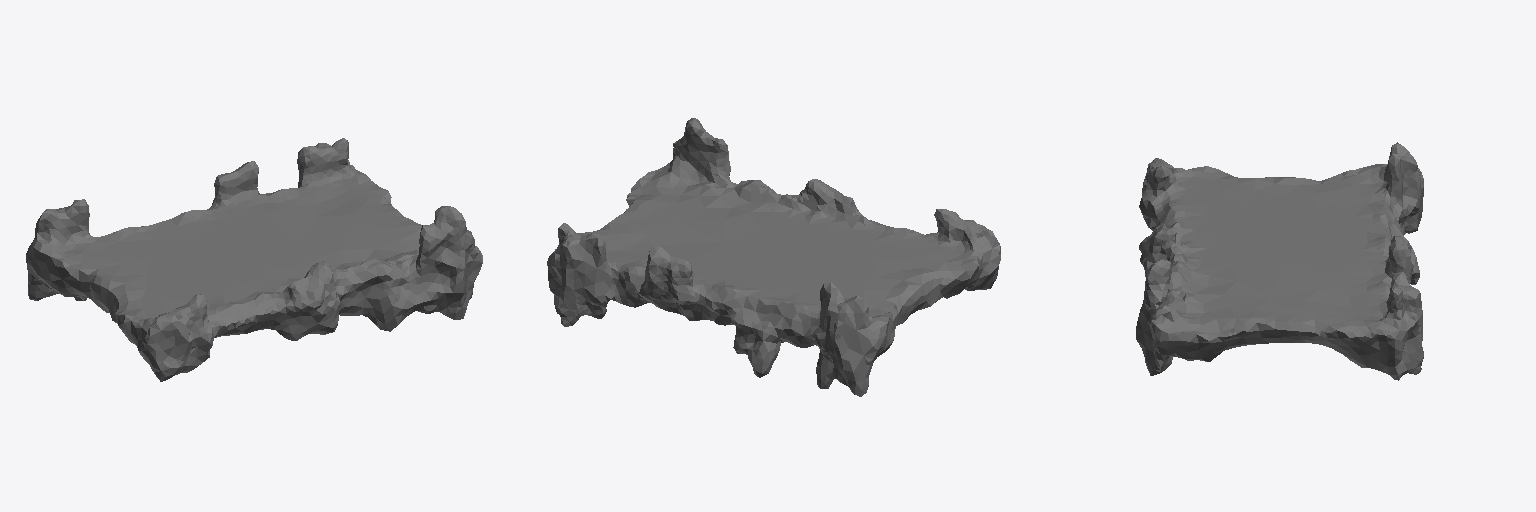
Rendered from floor.obj.
The picture shows the model from 3 angles: view 1: azimuth 30°, elevation 25°; view 2: azimuth 150°, elevation 25°; view 3: azimuth 270°, elevation 25°; orthographic projection.
Parts seen in each view (by area): view 1: StoneBridge; view 2: StoneBridge; view 3: StoneBridge.
Boxes of the visible parts, x1,y1,x2,y2 form: StoneBridge: [26, 138, 482, 381]; StoneBridge: [547, 118, 1000, 396]; StoneBridge: [1136, 142, 1423, 380].
Size of the model in its own units: 123 by 41.42 by 88.65.